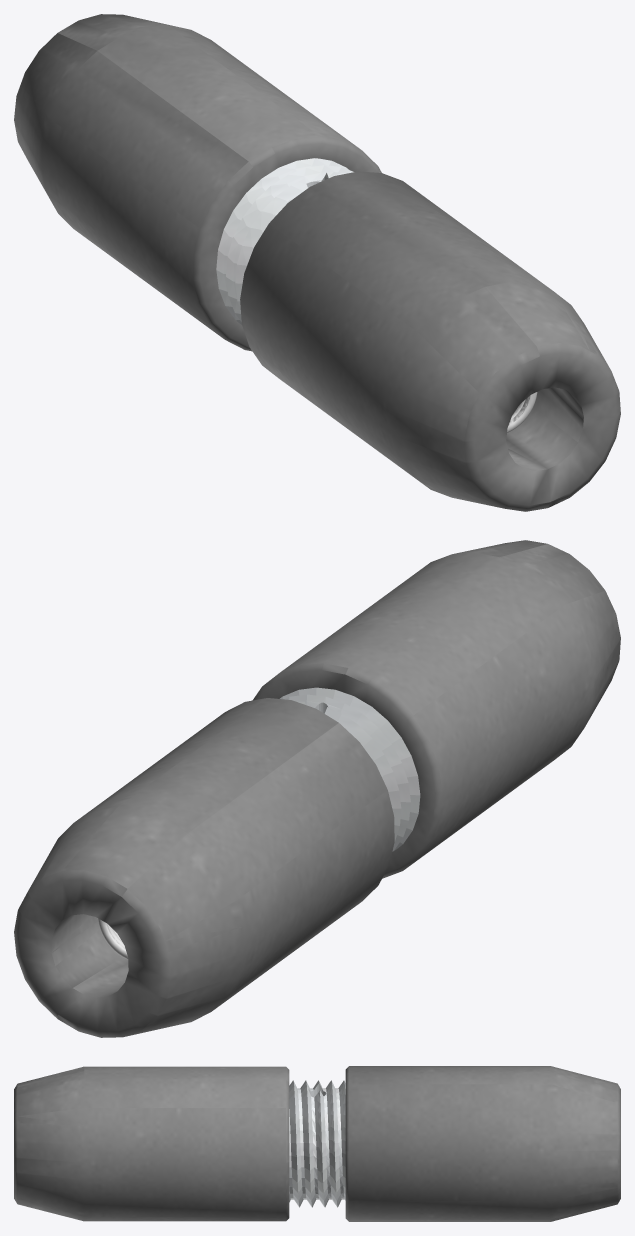
Rendered from Emendas de Cabo.glb.
The picture shows the model from 3 angles, top to bottom: view 1: azimuth 30°, elevation 25°; view 2: azimuth 150°, elevation 25°; view 3: azimuth 270°, elevation 25°; orthographic projection. The views are drawn at different scales.
Visible parts, largest first — view 1: IfcBuildingElementProxy/02.020.11.06.00.001, IfcBuildingElementProxy/02.020.11.06.00.21, IfcBeam/02.020.11.06.00.22_Default; view 2: IfcBuildingElementProxy/02.020.11.06.00.21, IfcBuildingElementProxy/02.020.11.06.00.001, IfcBeam/02.020.11.06.00.22_Default; view 3: IfcBuildingElementProxy/02.020.11.06.00.21, IfcBuildingElementProxy/02.020.11.06.00.001, IfcBeam/02.020.11.06.00.22_Default.
Boxes of the visible parts, <box> form: IfcBuildingElementProxy/02.020.11.06.00.001: <box>240,171,620,511</box>; IfcBuildingElementProxy/02.020.11.06.00.21: <box>14,14,381,351</box>; IfcBeam/02.020.11.06.00.22_Default: <box>216,158,353,324</box>; IfcBuildingElementProxy/02.020.11.06.00.21: <box>14,698,394,1037</box>; IfcBuildingElementProxy/02.020.11.06.00.001: <box>252,540,620,878</box>; IfcBeam/02.020.11.06.00.22_Default: <box>280,687,420,851</box>; IfcBuildingElementProxy/02.020.11.06.00.21: <box>345,1066,620,1221</box>; IfcBuildingElementProxy/02.020.11.06.00.001: <box>14,1066,289,1221</box>; IfcBeam/02.020.11.06.00.22_Default: <box>289,1080,345,1207</box>.
Size of the model in its own units: 0.0444 by 0.0444 by 0.173.
Materials: 4 (2 with a texture image).
